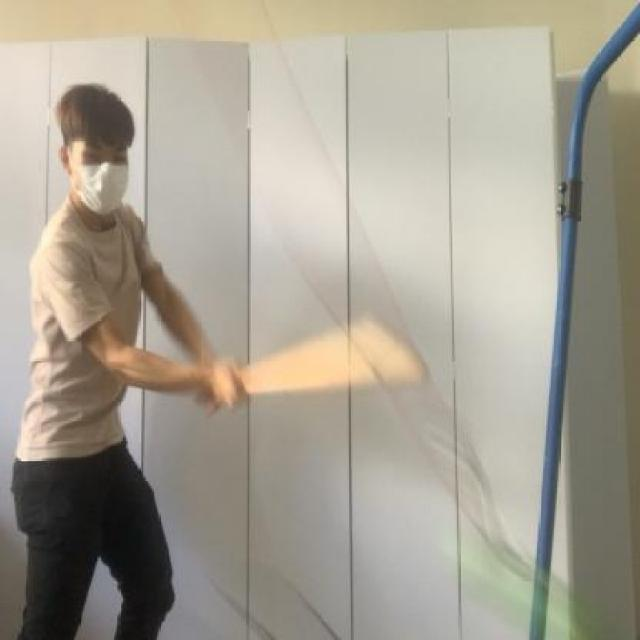baseball: (434, 523, 612, 640)
